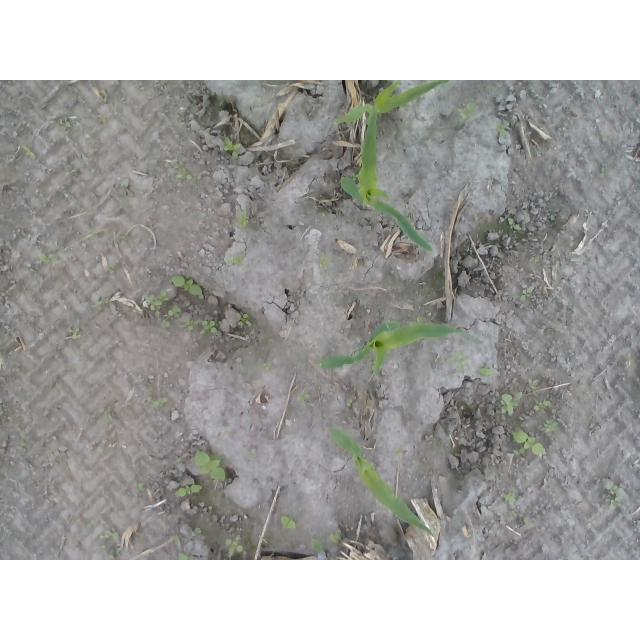Maize: (339, 109, 434, 256), (327, 421, 433, 538), (318, 320, 474, 378), (334, 80, 451, 128)
Weeds: (194, 450, 226, 483), (510, 429, 546, 455), (169, 274, 204, 299), (143, 290, 170, 319), (605, 480, 626, 508), (501, 392, 524, 417), (225, 534, 248, 558), (456, 102, 481, 123), (162, 305, 183, 328), (223, 136, 241, 160), (174, 159, 192, 181), (176, 483, 204, 497), (296, 391, 312, 413), (238, 311, 257, 329), (532, 398, 552, 415), (514, 286, 535, 302), (234, 208, 250, 229), (494, 118, 510, 138), (200, 321, 221, 336), (280, 512, 298, 529), (542, 418, 561, 434), (319, 254, 336, 271), (99, 528, 119, 541), (502, 489, 518, 505), (312, 535, 326, 553), (329, 530, 344, 546), (507, 217, 521, 234), (39, 255, 60, 266), (22, 144, 36, 160), (99, 88, 113, 104), (182, 319, 199, 332), (150, 397, 167, 409), (479, 367, 497, 378), (455, 351, 466, 369), (463, 335, 481, 346), (406, 315, 424, 326), (69, 320, 80, 337), (600, 159, 610, 177), (57, 118, 72, 130), (16, 440, 29, 453), (528, 378, 540, 392), (231, 255, 246, 266), (133, 481, 145, 494), (114, 231, 129, 241), (176, 552, 193, 560), (213, 97, 224, 108), (174, 537, 185, 548), (394, 447, 406, 457), (119, 179, 129, 190), (256, 96, 265, 108), (559, 119, 569, 129), (195, 527, 206, 536), (247, 452, 258, 461), (529, 256, 539, 265), (96, 295, 105, 305), (104, 264, 114, 273), (424, 435, 432, 446), (264, 362, 273, 370), (104, 414, 113, 422), (523, 519, 530, 529), (347, 398, 353, 408), (271, 80, 283, 85), (511, 510, 517, 519), (271, 95, 277, 103), (185, 304, 192, 309), (496, 213, 501, 219)
